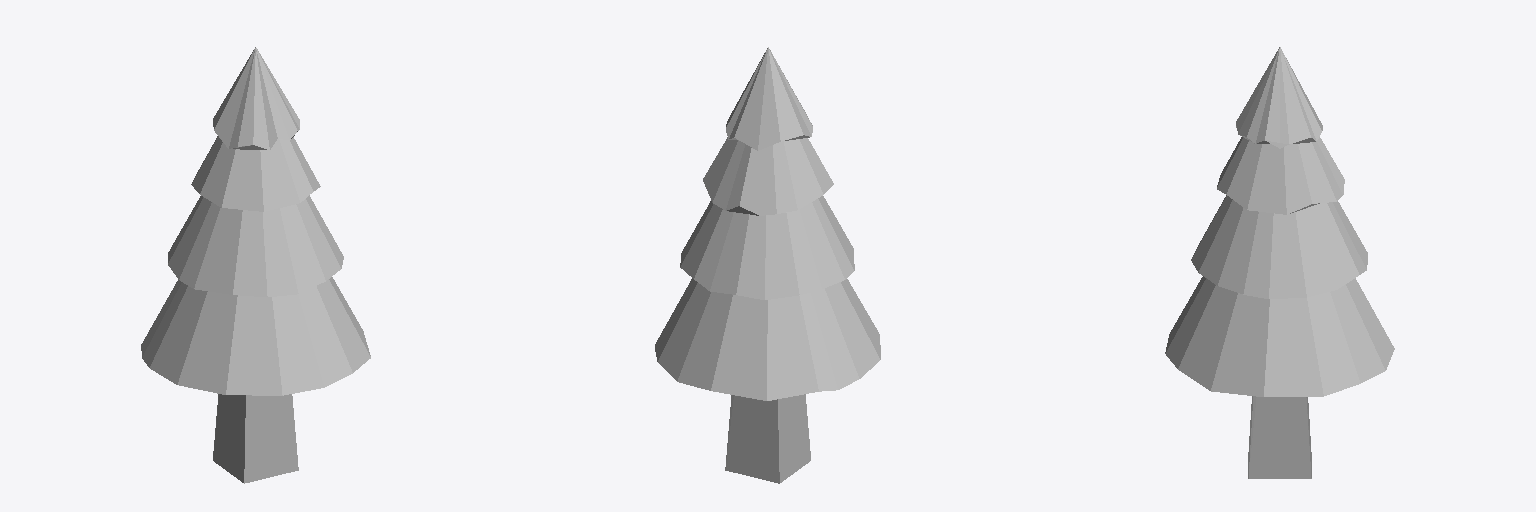
The picture shows the model from 3 angles: view 1: azimuth 30°, elevation 25°; view 2: azimuth 150°, elevation 25°; view 3: azimuth 270°, elevation 25°; orthographic projection.
Visible parts, largest first — view 1: pine2_LOD1; view 2: pine2_LOD1; view 3: pine2_LOD1.
Part boxes in pixels (left/top/right/bottom): pine2_LOD1: left=141, top=47, right=370, bottom=483; pine2_LOD1: left=655, top=47, right=880, bottom=483; pine2_LOD1: left=1165, top=47, right=1394, bottom=478.
Bounding box in the file's own units: 5.18 × 10.45 × 5.19.